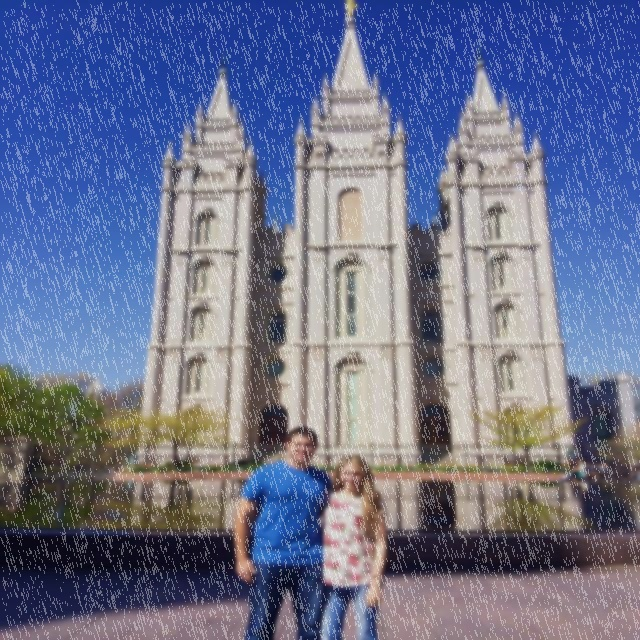pessoa: (229, 425, 342, 640), (318, 454, 392, 640), (584, 461, 640, 481), (568, 482, 592, 494), (102, 461, 124, 474), (572, 458, 588, 474), (567, 457, 578, 472), (50, 459, 60, 468)
